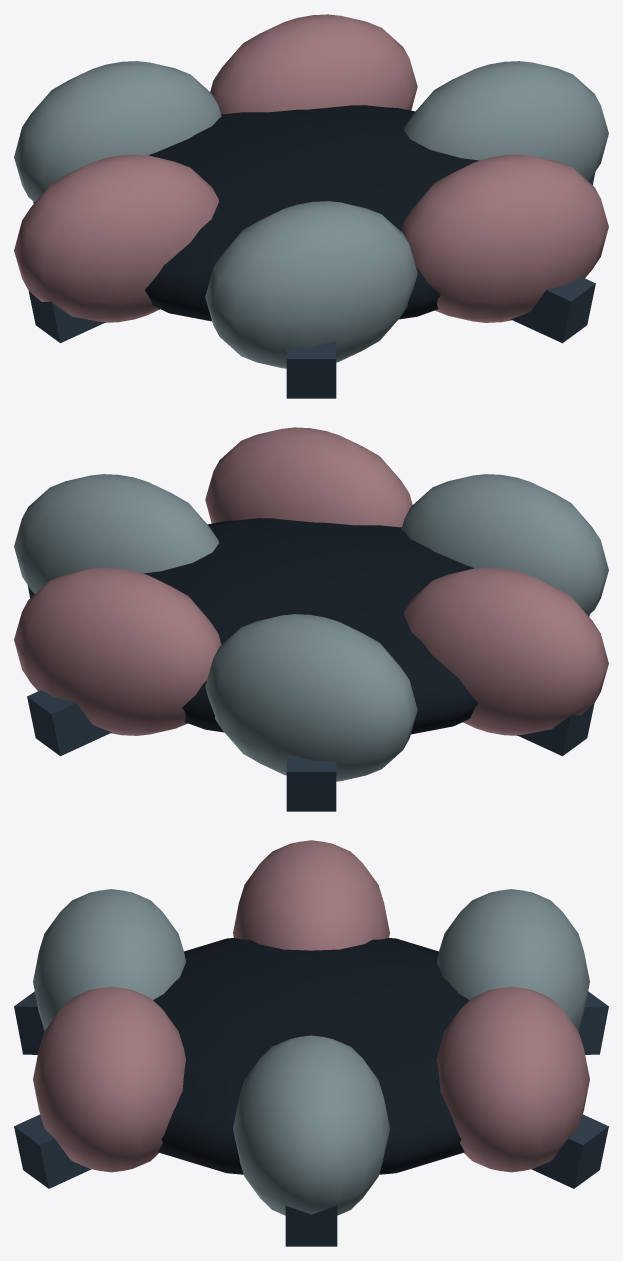
Rendered from CMU3DHiveXenoEggDestroyedFragileSustained.glb.
3 renders of one model, top to bottom at view 1: azimuth 30°, elevation 25°; view 2: azimuth 150°, elevation 25°; view 3: azimuth 270°, elevation 25°, orthographic. The views are drawn at different scales.
Visible parts, largest first — view 1: broken shell and flesh (×6), torn egg base, anchoring root (×3); view 2: broken shell and flesh (×6), torn egg base, anchoring root (×3); view 3: broken shell and flesh (×6), torn egg base, anchoring root (×5).
Boxes of the visible parts, x1=… form: broken shell and flesh (×6): x1=14, y1=14, x2=608, y2=368; torn egg base: x1=144, y1=105, x2=479, y2=321; anchoring root (×3): x1=28, y1=277, x2=595, y2=398; broken shell and flesh (×6): x1=14, y1=427, x2=608, y2=781; torn egg base: x1=143, y1=518, x2=478, y2=734; anchoring root (×3): x1=27, y1=690, x2=594, y2=811; broken shell and flesh (×6): x1=33, y1=840, x2=589, y2=1215; torn egg base: x1=153, y1=938, x2=469, y2=1174; anchoring root (×5): x1=14, y1=991, x2=608, y2=1246.
Bounding box in the file's own units: 0.76 × 0.2 × 0.644.
